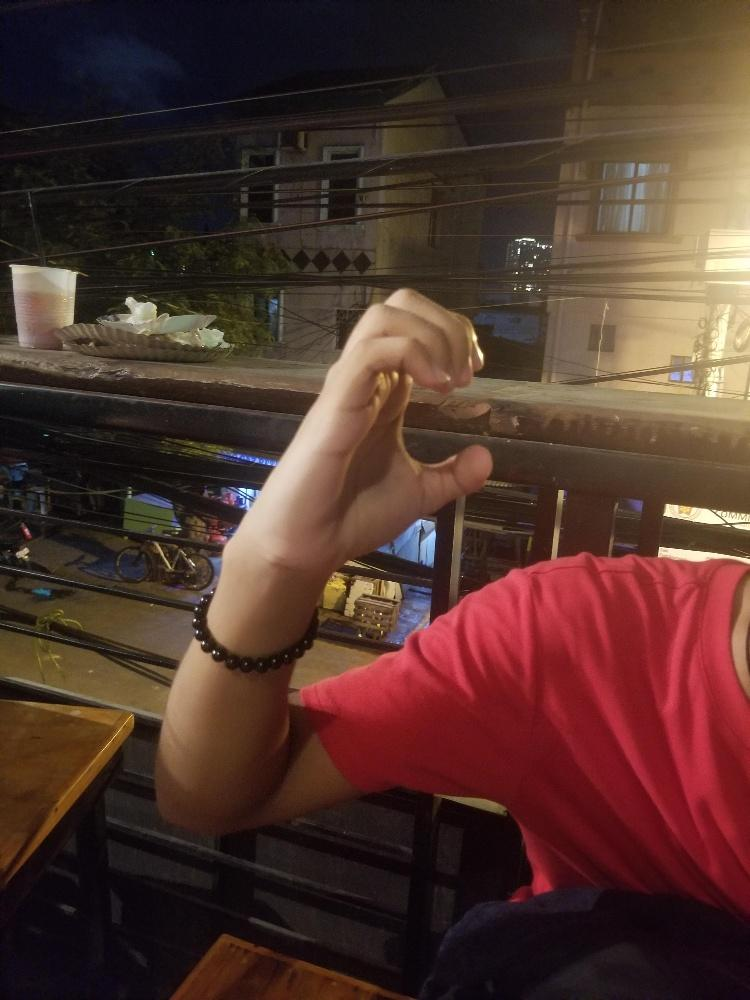c: (266, 286, 493, 555)
